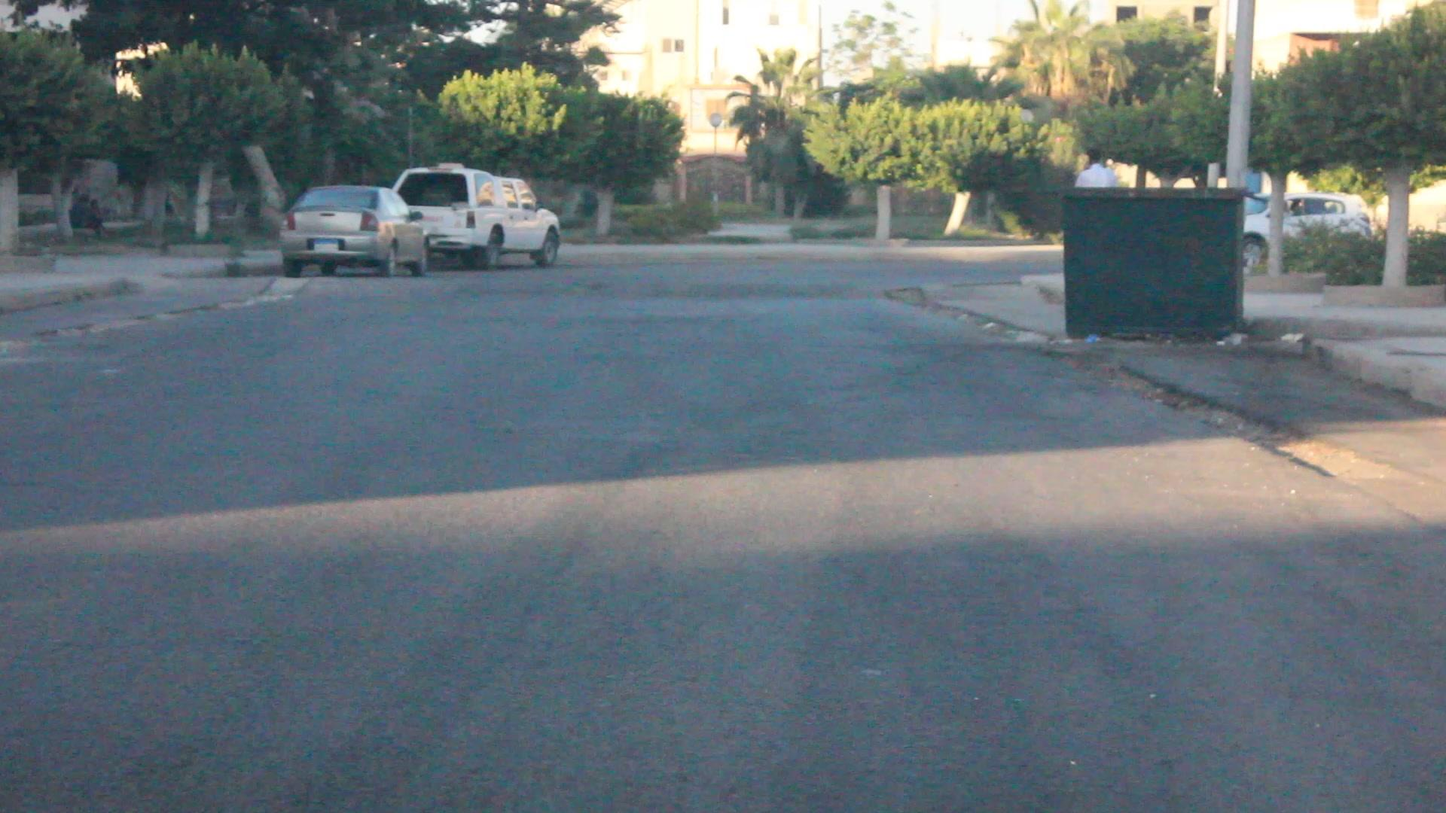Bump: (125, 275, 931, 300)
